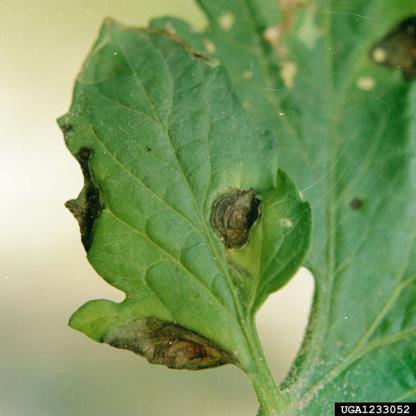potato leaf early blight: (60, 18, 315, 381)
